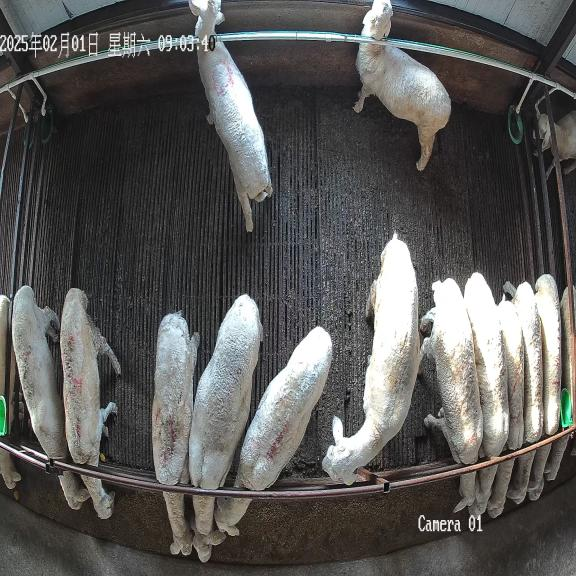eating: (215, 327, 332, 535), (189, 294, 262, 562), (12, 286, 90, 509), (422, 278, 483, 512), (60, 288, 121, 519), (152, 312, 198, 555), (464, 272, 509, 517), (486, 297, 524, 518), (506, 282, 543, 504), (527, 274, 561, 500)
stand: (322, 233, 420, 484), (188, 0, 272, 232), (353, 0, 451, 171)
